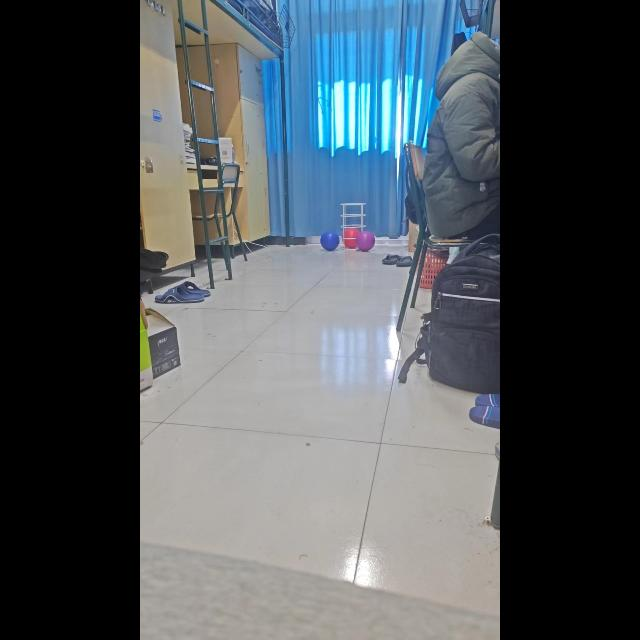B: (320, 231, 339, 251)
P: (356, 230, 375, 251)
R: (344, 228, 360, 249)
S: (338, 201, 366, 247)
